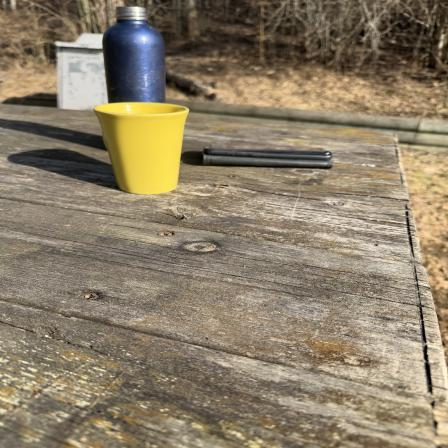blue_bottle: (104, 5, 168, 106)
phone: (205, 148, 334, 168)
yellow_cup: (94, 101, 190, 197)
